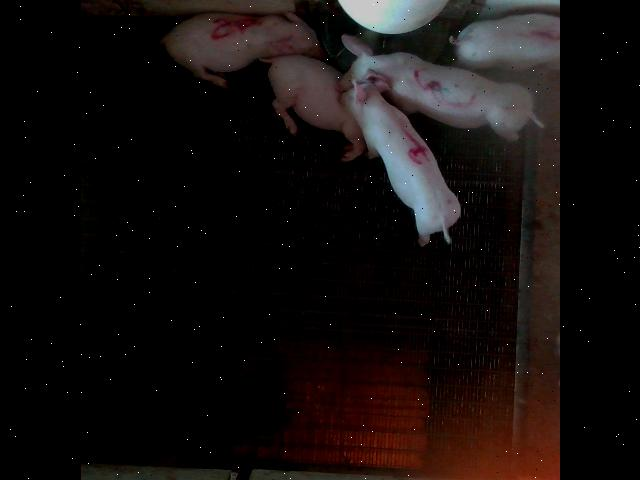pig-1: (449, 15, 559, 70)
pig-3: (338, 36, 542, 141)
pig-4: (342, 76, 459, 246)
pig-5: (156, 12, 327, 89)
